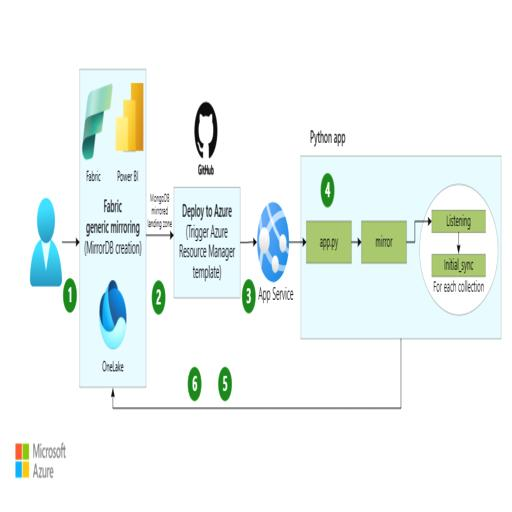actor: (28, 204, 62, 276)
api_gateway: (112, 404, 401, 410), (404, 213, 427, 246), (146, 232, 172, 238), (400, 338, 402, 410), (456, 230, 460, 256), (290, 238, 305, 244), (62, 238, 76, 244), (241, 238, 255, 244), (352, 238, 362, 244), (111, 391, 114, 410)
data_flow: (84, 87, 112, 146), (118, 87, 140, 146)
database_storage: (173, 194, 241, 289), (256, 212, 290, 271), (306, 224, 352, 260), (360, 224, 406, 260), (193, 108, 218, 168), (430, 209, 486, 231), (430, 254, 486, 276)
network_security: (98, 284, 126, 343)
trust_boundary: (300, 172, 502, 322), (78, 102, 146, 353), (421, 186, 495, 296)
